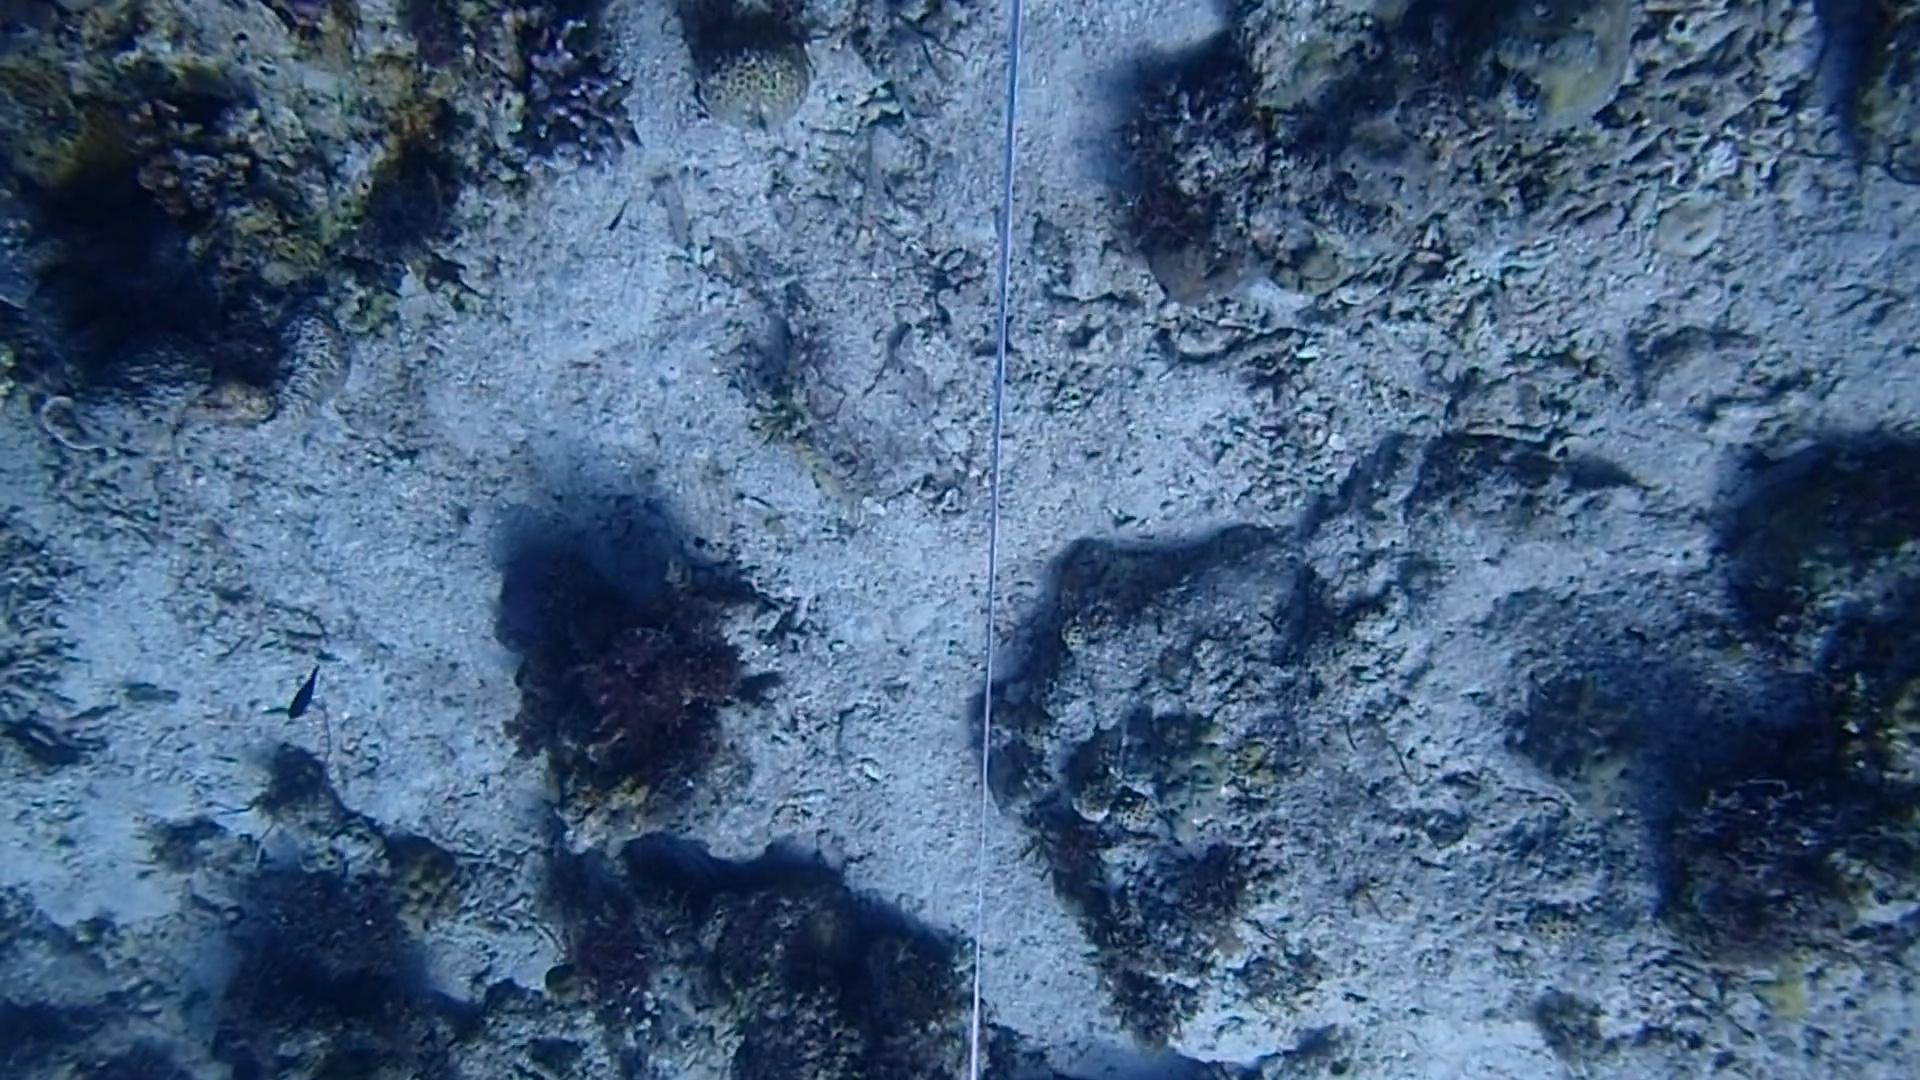Dark Fish: (274, 659, 340, 736)
